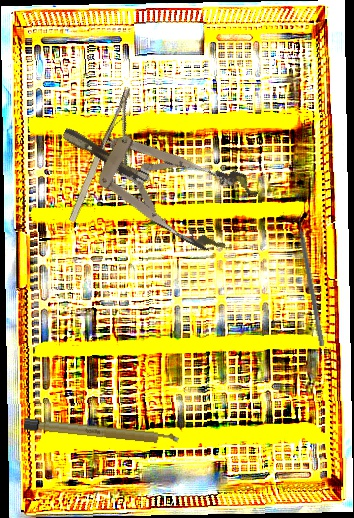Needle Holder: (64, 86, 158, 233)
Scalpel Handle: (23, 417, 180, 447)
Spatula Surgical: (293, 210, 331, 347)
Speculum: (45, 93, 263, 261)
